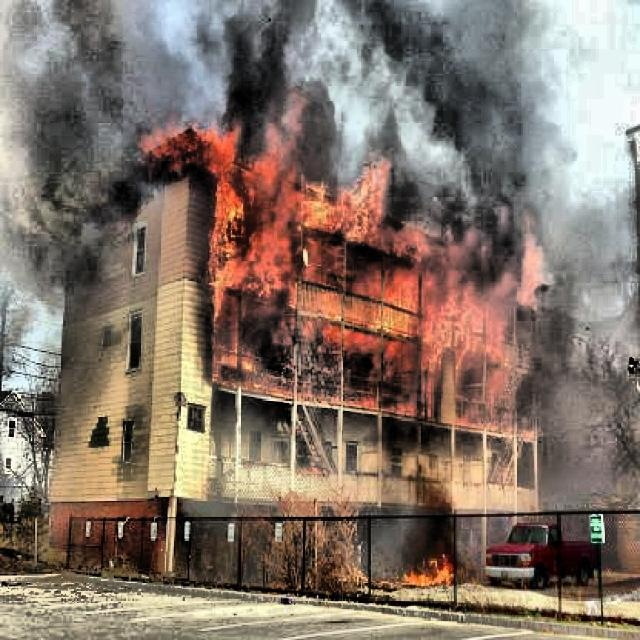Fire: (136, 118, 546, 437), (401, 550, 453, 590)
